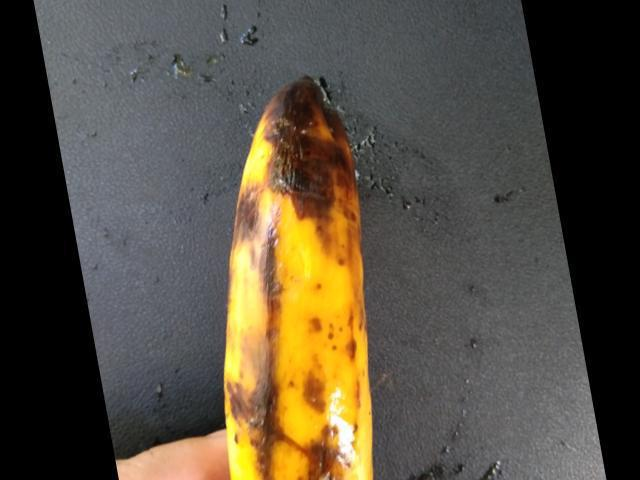rotten: (211, 63, 414, 479)
